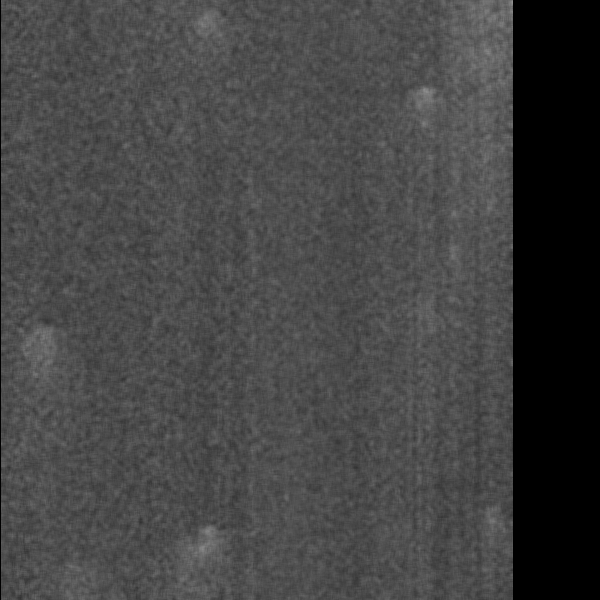spark: (142, 506, 184, 546), (131, 65, 179, 90)
